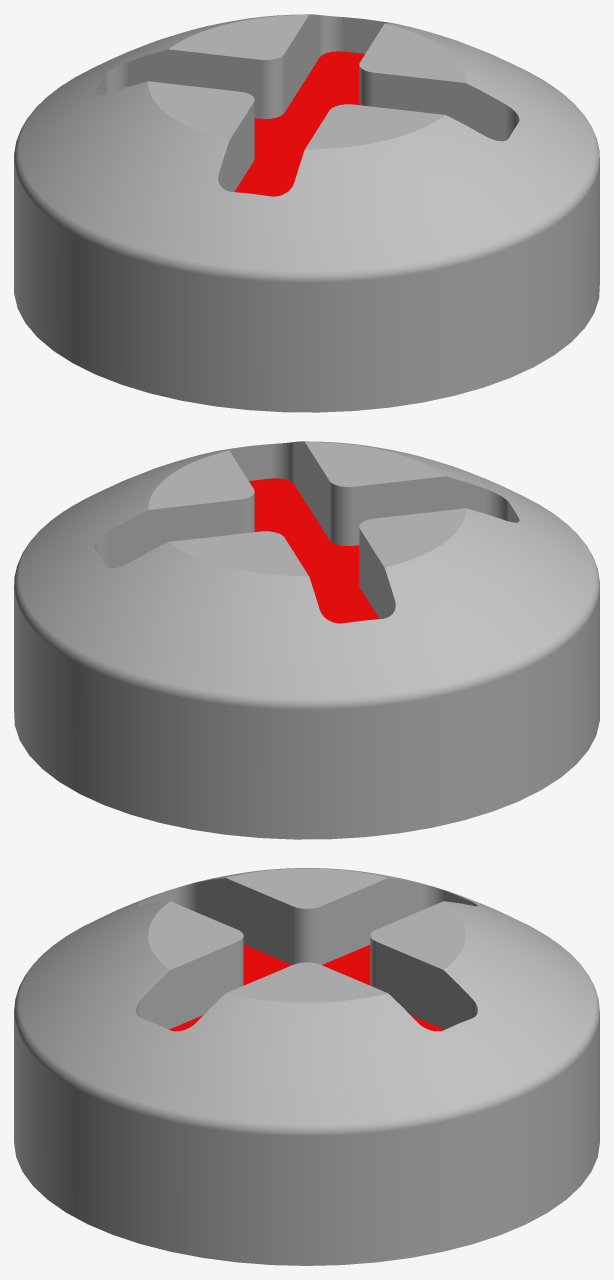
File: estop.glb
The picture shows the model from 3 angles, top to bottom: view 1: azimuth 30°, elevation 25°; view 2: azimuth 150°, elevation 25°; view 3: azimuth 270°, elevation 25°; orthographic projection.
Visible parts, largest first — view 1: Stop; view 2: Stop; view 3: Stop.
Boxes of the visible parts, box(x1,y1,x2,y2) form: Stop: box(14, 14, 599, 412); Stop: box(14, 441, 599, 839); Stop: box(14, 868, 599, 1265).
Bounding box in the file's own units: 0.09 × 0.035 × 0.09.
